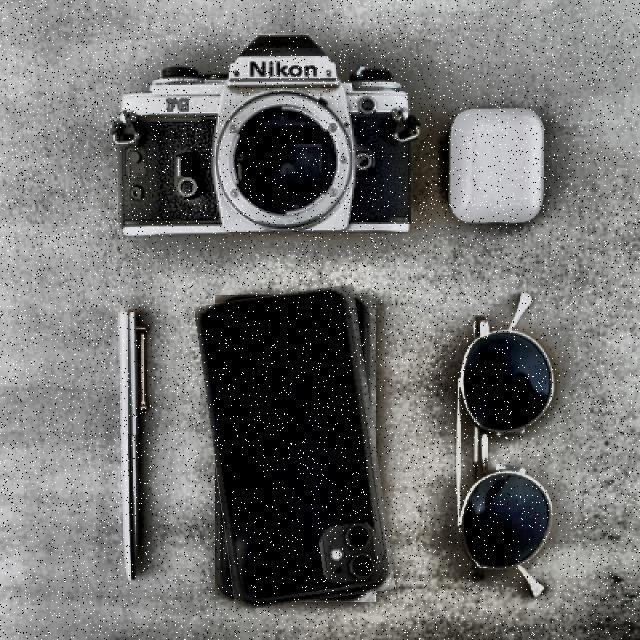Phone: (204, 289, 386, 606)
